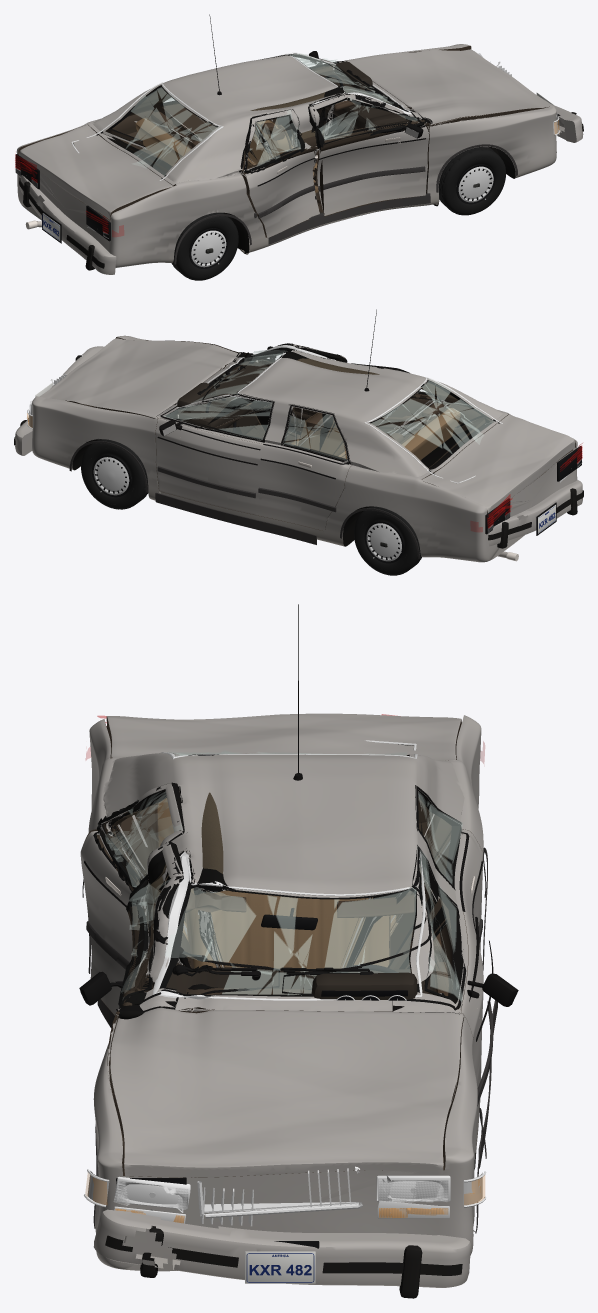
Rendered from sedan87_side_R_d1.glb.
3 renders of one model, top to bottom at view 1: azimuth 30°, elevation 25°; view 2: azimuth 150°, elevation 25°; view 3: azimuth 270°, elevation 25°, orthographic. The views are drawn at different scales.
Visible parts, largest first — view 1: Body, Hood, Door_FR, Trunk, Interior, Glass, Door_RR, Wheel_FR_mesh, Wheel_RR_mesh, Trim, Bumper_R, Glass_RR (+7 smaller); view 2: Body, Hood, Door_FL, Trunk, Interior, Door_RL, Glass, Wheel_FL_mesh, Wheel_RL_mesh, Trim, Bumper_R, Glass_FL (+9 smaller); view 3: Body, Hood, Interior, Glass, Bumper_F, Trunk, Ends, Door_RR, Door_FL, Door_FR, Trim_FL, Glass_RR (+10 smaller).
Boxes of the visible parts, x1,y1,x2,y2 form: Body: (16, 44, 556, 267); Hood: (344, 49, 552, 125); Door_FR: (308, 94, 429, 216); Trunk: (19, 124, 172, 220); Interior: (135, 61, 409, 192); Glass: (71, 52, 411, 180); Door_RR: (241, 109, 319, 238); Wheel_FR_mesh: (439, 147, 505, 215); Wheel_RR_mesh: (171, 212, 238, 280); Trim: (174, 14, 517, 264); Bumper_R: (19, 175, 116, 274); Glass_RR: (245, 110, 304, 171); Body: (32, 335, 577, 562); Hood: (40, 338, 241, 418); Door_FL: (155, 394, 274, 515); Trunk: (422, 414, 575, 513); Interior: (175, 361, 460, 460); Door_RL: (257, 404, 352, 531); Glass: (177, 345, 502, 483); Wheel_FL_mesh: (81, 439, 148, 509); Wheel_RL_mesh: (354, 506, 421, 575); Trim: (69, 309, 420, 558); Bumper_R: (488, 480, 583, 548); Glass_FL: (164, 393, 274, 439); Body: (88, 715, 483, 1271); Hood: (110, 1007, 463, 1177); Interior: (152, 791, 434, 1002); Glass: (153, 740, 425, 1000); Bumper_F: (93, 1209, 470, 1298); Trunk: (106, 713, 461, 760); Ends: (84, 726, 486, 1283); Door_RR: (80, 782, 184, 1015); Door_FL: (393, 845, 483, 1142); Door_FR: (119, 841, 183, 1012); Trim_FL: (282, 846, 518, 1106); Glass_RR: (98, 784, 182, 889).
Bounding box in the file's own units: 4.93 × 2.1 × 1.9.
Materials: 33 (5 with a texture image).
